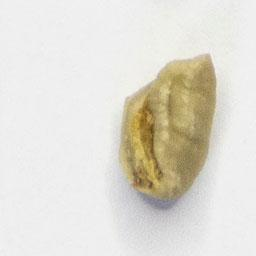defect: (113, 46, 225, 207)
